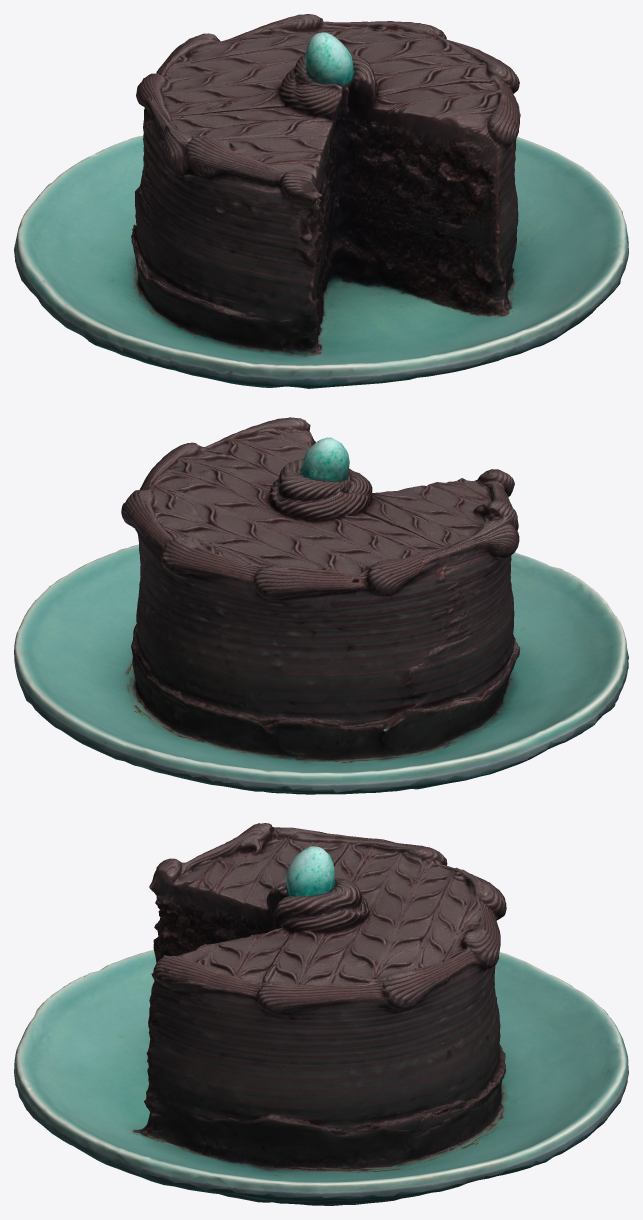
Rendered from NRS_Cake_OBJ.obj.
3 renders of one model, top to bottom at view 1: azimuth 30°, elevation 25°; view 2: azimuth 150°, elevation 25°; view 3: azimuth 270°, elevation 25°, orthographic.
Parts seen in each view (by area): view 1: NRS_001_003; view 2: NRS_001_003; view 3: NRS_001_003.
Part boxes in pixels (x1,y1,x2,y2): NRS_001_003: (14, 14, 628, 388); NRS_001_003: (14, 417, 628, 794); NRS_001_003: (14, 823, 628, 1205).
Size of the model in its own units: 94.59 by 45.04 by 94.21.
Materials: 2 (2 with a texture image).
